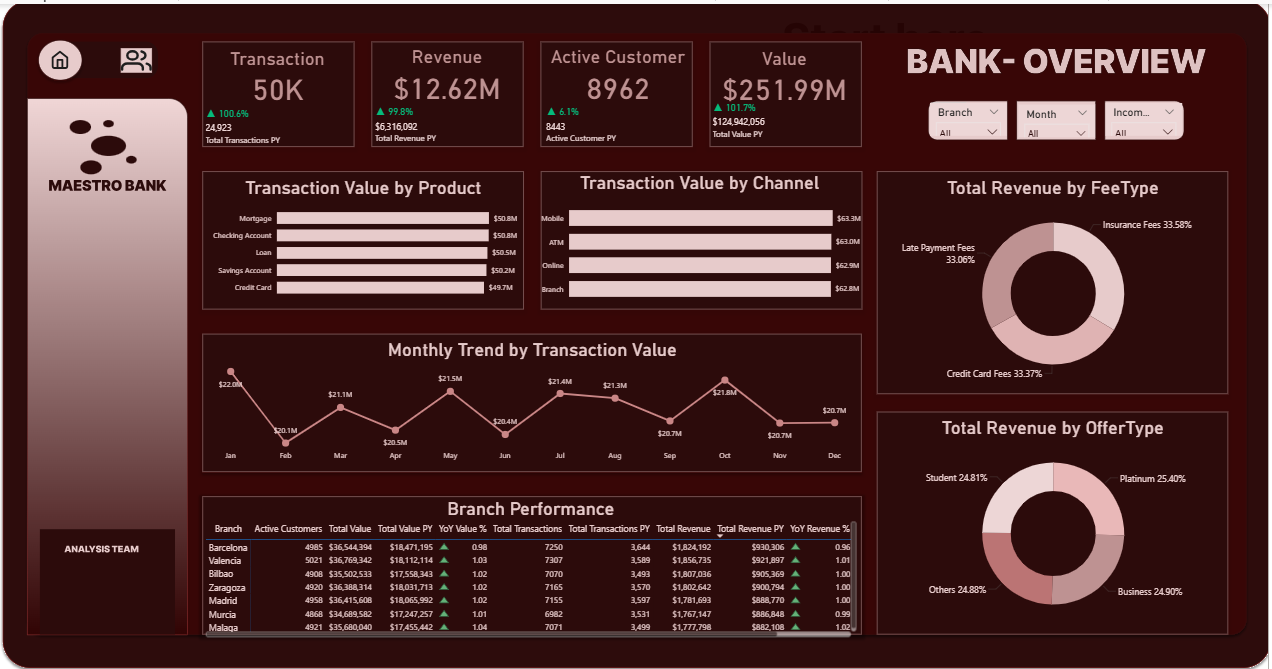

The dashboard page shown, as its layout file describes it:
{"tool":"powerbi","page":{"name":"Page 1","canvas":[2083,1097],"ordinal":0},"visuals":[{"type":"clusteredBarChart","title":"Transaction Value by Product","fields":{"Category":["banking_transactions_large.Product"],"Y":["DateTable.Total Value"]},"box":[338.3,282.9,519,209.1],"z":0},{"type":"barChart","title":"Transaction Value by Channel","fields":{"Category":["banking_transactions_large.Channel"],"Y":["DateTable.Total Value"]},"box":[879.7,276,539.6,226.7],"z":1000},{"type":"lineChart","title":"Monthly Trend by Transaction Value","fields":{"Y":["DateTable.Total Value"],"Category":["DateTable.Month Names"]},"box":[337.6,549.5,1074.4,209.5],"z":2000},{"type":"pivotTable","title":"Branch Performance","fields":{"Rows":["banking_transactions_large.Branch"],"Values":["DateTable.Active Customers","DateTable.Total Value","DateTable.Total Value PY","DateTable.YoY Value %","DateTable.Total Transactions","DateTable.Total Transactions PY","DateTable.Total Revenue","DateTable.Total Revenue PY","DateTable.YoY Revenue %","DateTable.Revenue YoY Text"]},"box":[332.7,810.7,1079.3,234.1],"z":3000},{"type":"donutChart","fields":{"Category":["banking_transactions_large.FeeType"],"Y":["DateTable.Total Revenue"]},"box":[1451.4,283.4,556.9,349.9],"z":4000},{"type":"donutChart","fields":{"Category":["banking_transactions_large.OfferType"],"Y":["DateTable.Total Revenue"]},"box":[1451.4,677.6,556.9,349.9],"z":5000},{"type":"slicer","fields":{"Values":["banking_transactions_large.Branch"]},"box":[1527.8,162.6,125.7,54.2],"z":6000},{"type":"slicer","fields":{"Values":["DateTable.Month"]},"box":[1673.1,165.1,125.7,54.2],"z":7000},{"type":"slicer","fields":{"Values":["banking_transactions_large.IncomeBand"]},"box":[1816.1,162.6,125.7,54.2],"z":8000},{"type":"card","title":"Transaction","fields":{"Values":["DateTable.Total Transactions"]},"box":[332.7,71.5,246.4,93.6],"z":9000},{"type":"multiRowCard","title":"PY","fields":{"Values":["DateTable.Total Transactions PY","DateTable.Transactions YoY Text"]},"box":[332.7,165.1,246.4,71.5],"z":10000},{"type":"card","title":"Revenue","fields":{"Values":["DateTable.Total Revenue"]},"box":[611.1,69,246.4,93.6],"z":11000},{"type":"multiRowCard","title":"PY","fields":{"Values":["DateTable.Total Revenue PY","DateTable.Revenue YoY Text"]},"box":[611.1,162.6,246.4,71.5],"z":12000},{"type":"multiRowCard","title":"PY","fields":{"Values":["DateTable.Active Customer PY","DateTable.Active Customer YoY Text"]},"box":[892,162.6,246.4,73.9],"z":13000},{"type":"multiRowCard","title":"PY","fields":{"Values":["DateTable.Total Value PY","DateTable.Value YoY Text"]},"box":[1165.5,155.2,246.4,71.5],"z":14000},{"type":"card","title":"Active Customer","fields":{"Values":["DateTable.Active Customers"]},"box":[892,69,246.4,93.6],"z":15000},{"type":"card","title":"Value","fields":{"Values":["DateTable.Total Value"]},"box":[1165.5,71.5,246.4,93.6],"z":16000},{"type":"pageNavigator","box":[64.1,73.9,179.9,37],"z":17000}]}

Visuals, with their boxes in screenshot pixels (x1, y1, x2, y2), scaled from the page's 2083x1097 canvas onto the 1272x669 screenshot:
"Transaction Value by Product" clusteredBarChart: detection(207, 173, 524, 300)
"Transaction Value by Channel" barChart: detection(537, 168, 867, 307)
"Monthly Trend by Transaction Value" lineChart: detection(206, 335, 862, 463)
"Branch Performance" pivotTable: detection(203, 494, 862, 637)
donutChart - banking_transactions_large.FeeType x DateTable.Total Revenue: detection(886, 173, 1226, 386)
donutChart - banking_transactions_large.OfferType x DateTable.Total Revenue: detection(886, 413, 1226, 627)
slicer - banking_transactions_large.Branch: detection(933, 99, 1010, 132)
slicer - DateTable.Month: detection(1022, 101, 1098, 134)
slicer - banking_transactions_large.IncomeBand: detection(1109, 99, 1186, 132)
"Transaction" card: detection(203, 44, 354, 101)
"PY" multiRowCard: detection(203, 101, 354, 144)
"Revenue" card: detection(373, 42, 524, 99)
"PY" multiRowCard: detection(373, 99, 524, 143)
"PY" multiRowCard: detection(545, 99, 695, 144)
"PY" multiRowCard: detection(712, 95, 862, 138)
"Active Customer" card: detection(545, 42, 695, 99)
"Value" card: detection(712, 44, 862, 101)
pageNavigator: detection(39, 45, 149, 68)
